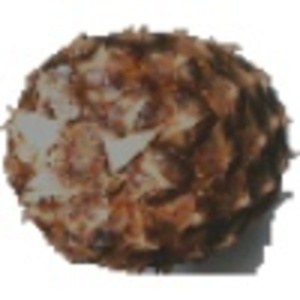abacaxi: (1, 23, 290, 272)
